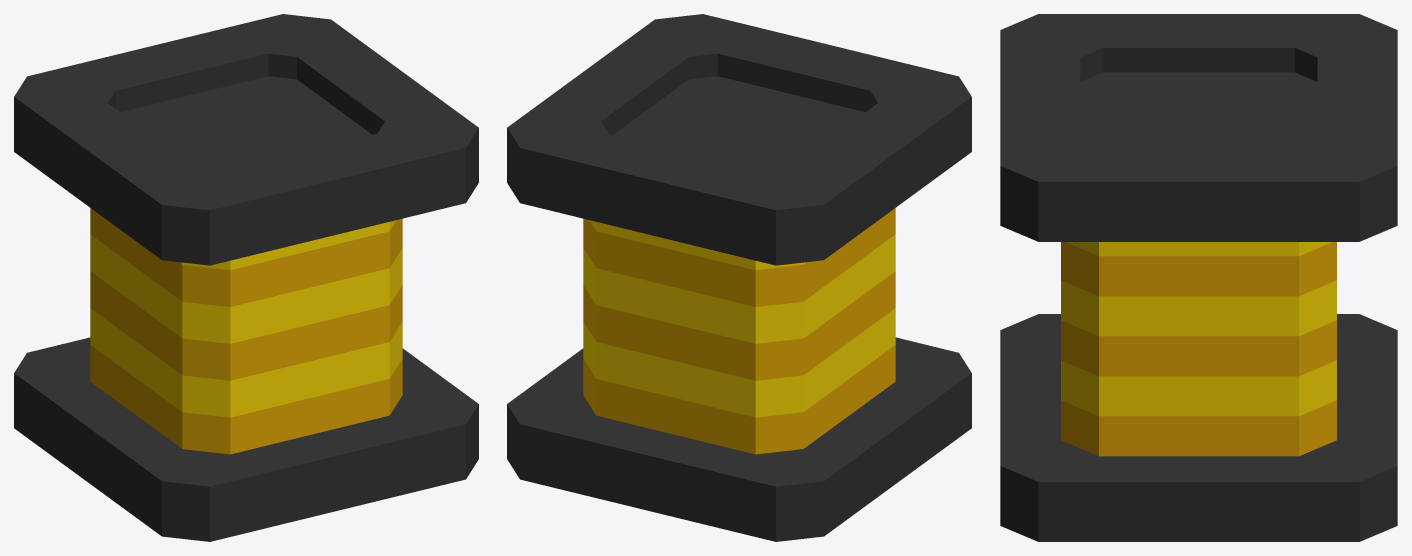
File: HeheWire.fbx
The picture shows the model from 3 angles, left to right: view 1: azimuth 30°, elevation 25°; view 2: azimuth 150°, elevation 25°; view 3: azimuth 270°, elevation 25°; orthographic projection. The views are drawn at different scales.
Visible parts, largest first — view 1: HeheWire; view 2: HeheWire; view 3: HeheWire.
Part boxes in pixels (x1,y1,x2,y2): HeheWire: (14, 14, 478, 541); HeheWire: (507, 14, 971, 541); HeheWire: (1000, 14, 1397, 541).
Bounding box in the file's own units: 0.75 × 0.75 × 0.75.
